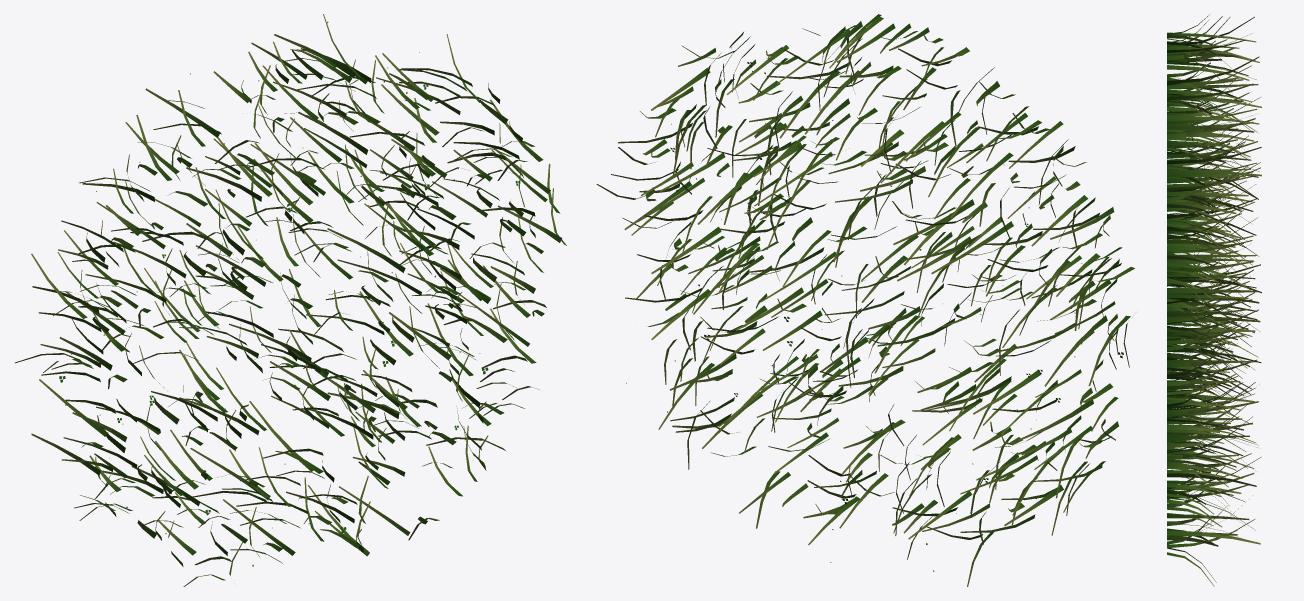
The model's file is Grass_Tile_WildMeadow.glb.
3 views of the same model, side by side, from view 1: azimuth 30°, elevation 25°; view 2: azimuth 150°, elevation 25°; view 3: azimuth 270°, elevation 25° (orthographic). The views are drawn at different scales.
Parts seen in each view (by area): view 1: Grass_Tile_WildMeadow; view 2: Grass_Tile_WildMeadow; view 3: Grass_Tile_WildMeadow.
Part boxes in pixels (x1,y1,x2,y2): Grass_Tile_WildMeadow: (15, 14, 566, 586); Grass_Tile_WildMeadow: (596, 14, 1134, 586); Grass_Tile_WildMeadow: (1167, 14, 1261, 586).
Bounding box in the file's own units: 2.06 × 1.95 × 0.4396.
